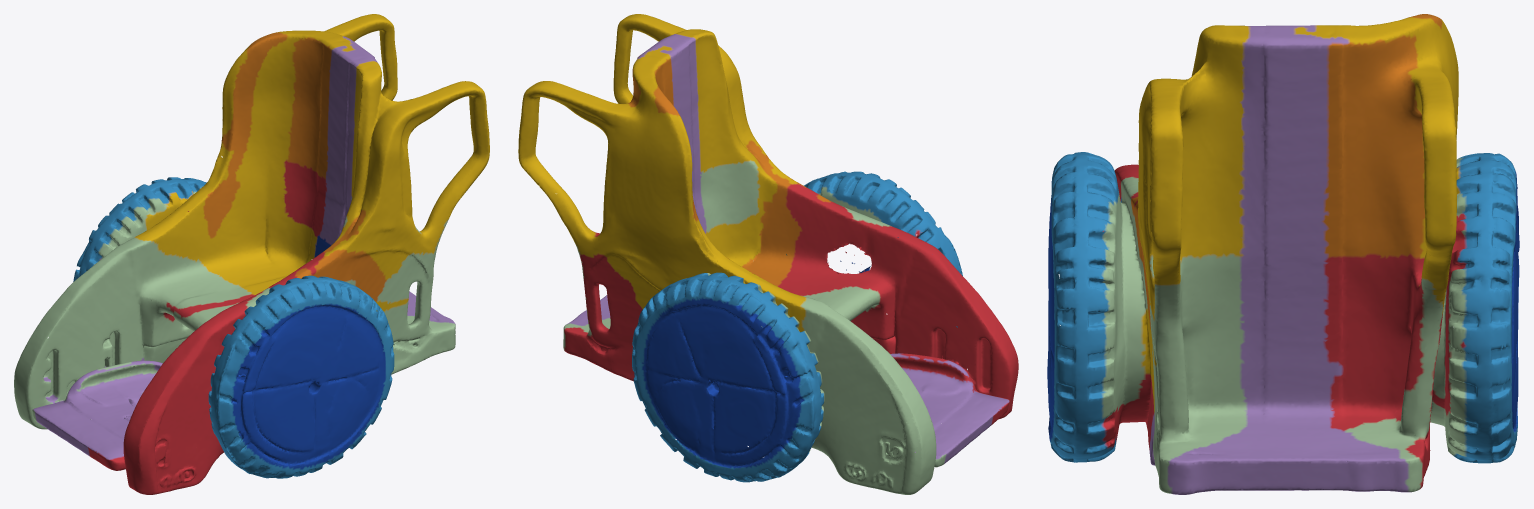
Rendered from cadeira_colorida.glb.
3 renders of one model, left to right at view 1: azimuth 30°, elevation 25°; view 2: azimuth 150°, elevation 25°; view 3: azimuth 270°, elevation 25°, orthographic. The views are drawn at different scales.
Parts seen in each view (by area): view 1: cadeira; view 2: cadeira; view 3: cadeira.
Boxes of the visible parts, <box> form: cadeira: <box>14,14,489,494</box>; cadeira: <box>518,14,1018,494</box>; cadeira: <box>1047,14,1519,494</box>.
Size of the model in its own units: 1.99 by 1.68 by 1.42.
